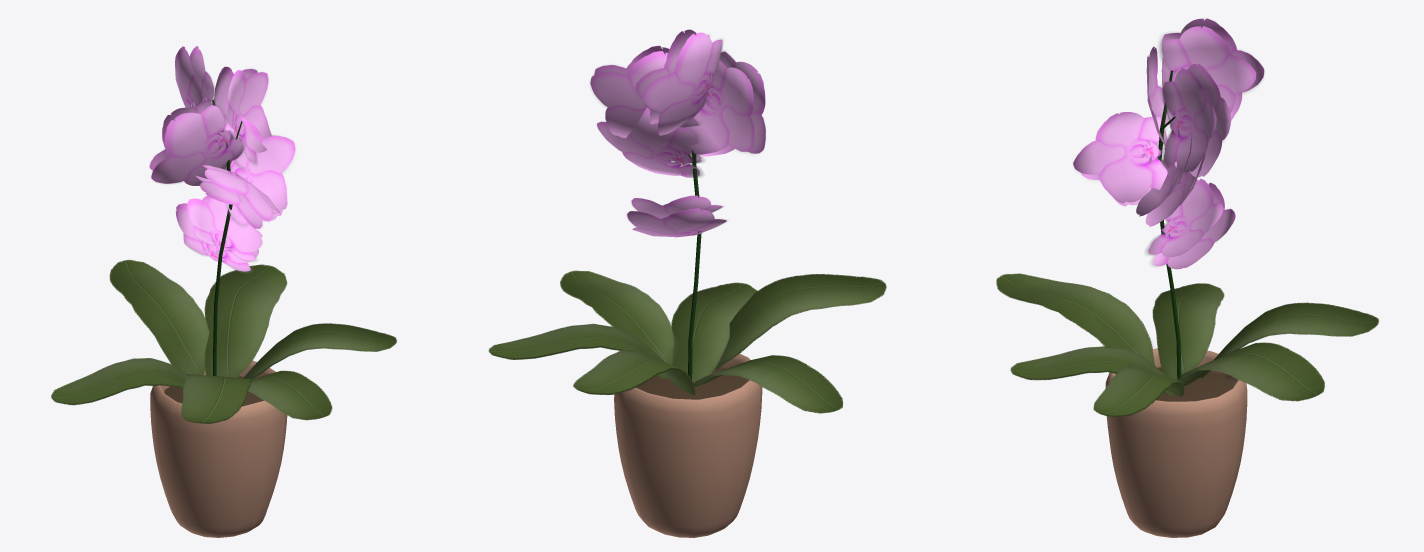
The model's file is OrchidPlant.glb.
The picture shows the model from 3 angles, left to right: view 1: azimuth 30°, elevation 25°; view 2: azimuth 150°, elevation 25°; view 3: azimuth 270°, elevation 25°; orthographic projection. The views are drawn at different scales.
Parts seen in each view (by area): view 1: Orchid Plant; view 2: Orchid Plant; view 3: Orchid Plant.
Boxes of the visible parts, <box> form: Orchid Plant: <box>51,46,396,537</box>; Orchid Plant: <box>488,29,886,537</box>; Orchid Plant: <box>996,18,1378,537</box>.
Bounding box in the file's own units: 0.2856 × 0.3728 × 0.2989.
3 materials, 3 textured.
